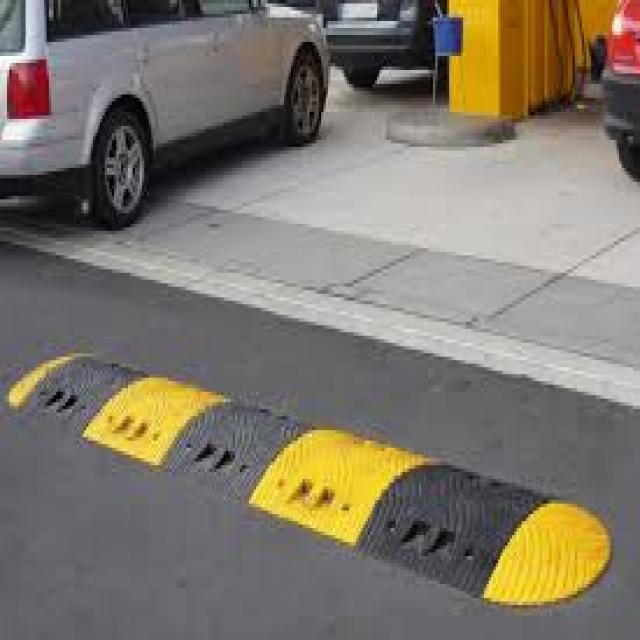Marked Bump: (22, 327, 588, 600)
